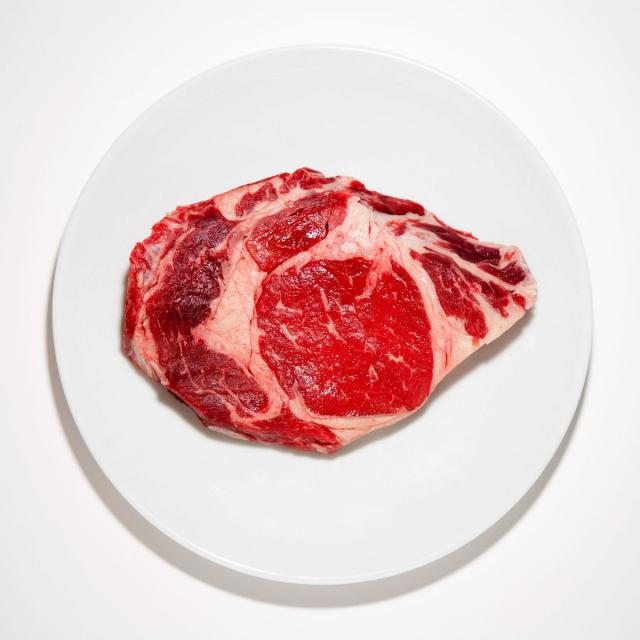Beef: (123, 167, 538, 454)
